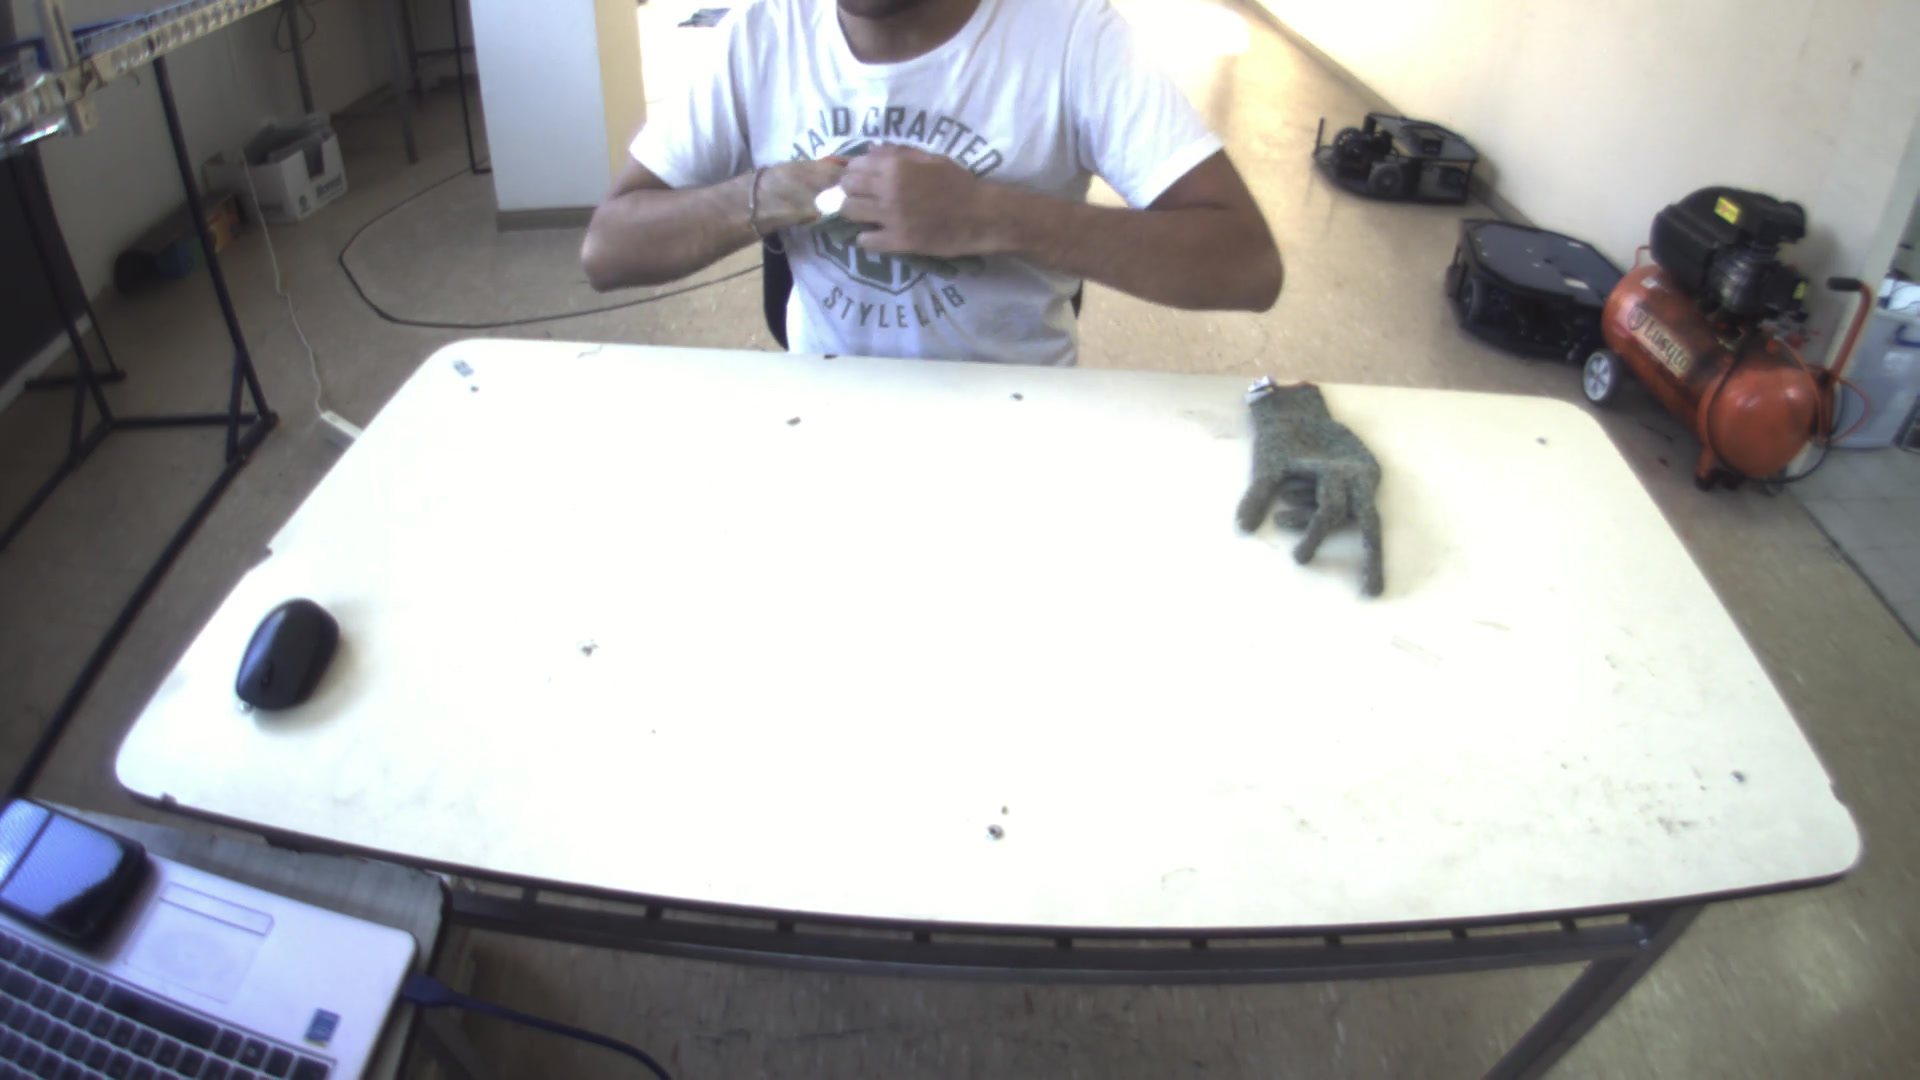hand: (827, 116, 989, 262)
